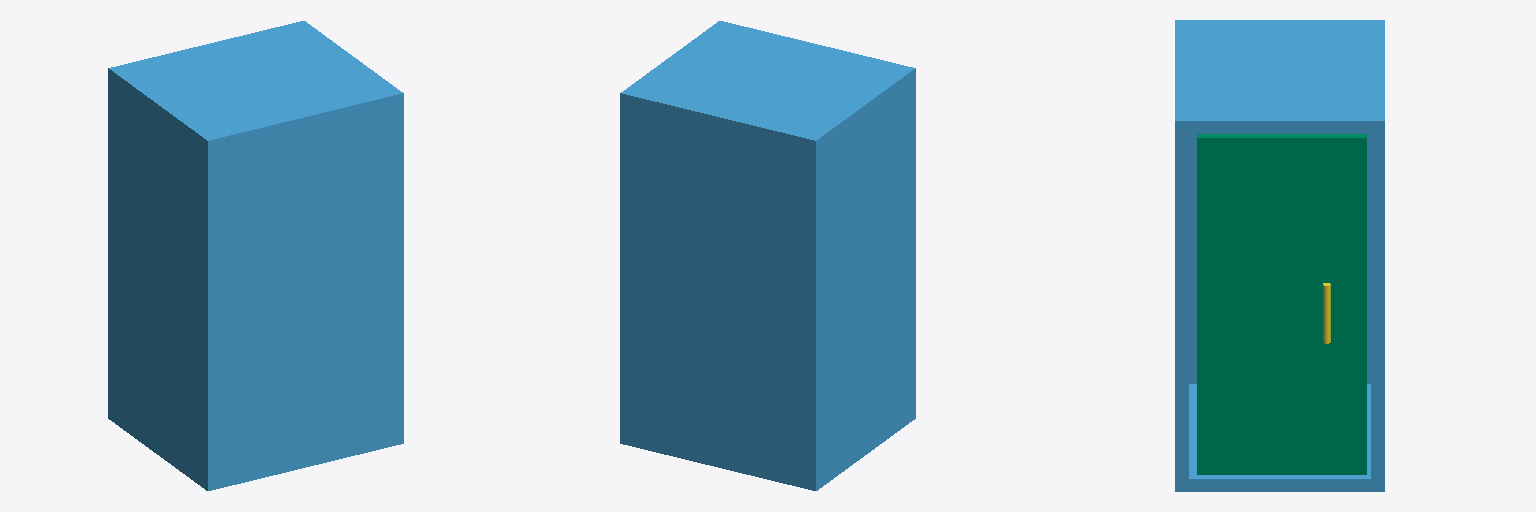
URDF robot description (my_cabinet):
<?xml version="1.0" ?>
<robot name="my_cabinet">
	<link name="world"/>
	<joint name="virtual_joint" type="fixed">
		<parent link="world"/>
		<child link="base_cabinet_link"/>
		<origin xyz="0.0 0.0 0.0" rpy="0.0 0.0 0.0"/>
	</joint>
	<link name="base_cabinet_link">
		<visual>
			<origin xyz="0.0 -0.0025 -0.24768988872392958" rpy="0.0 0.0 0.0"/>
			<geometry>
				<box size="0.3 0.26370536524899085 0.018"/>
			</geometry>
		</visual>
		<collision name="base_cabinet_link_collision_0">
			<origin xyz="0.0 -0.0025 -0.24768988872392958" rpy="0.0 0.0 0.0"/>
			<geometry>
				<box size="0.3 0.26370536524899085 0.018"/>
			</geometry>
		</collision>
		<visual>
			<origin xyz="0.0 0.12035268262449544 0.0" rpy="0.0 0.0 0.0"/>
			<geometry>
				<box size="0.3 0.018 0.5133797774478591"/>
			</geometry>
		</visual>
		<collision name="base_cabinet_link_collision_1">
			<origin xyz="0.0 0.12035268262449544 0.0" rpy="0.0 0.0 0.0"/>
			<geometry>
				<box size="0.3 0.018 0.5133797774478591"/>
			</geometry>
		</collision>
		<visual>
			<origin xyz="0.0 -0.12535268262449545 0.0" rpy="0.0 0.0 0.0"/>
			<geometry>
				<box size="0.3 0.018 0.5133797774478591"/>
			</geometry>
		</visual>
		<collision name="base_cabinet_link_collision_2">
			<origin xyz="0.0 -0.12535268262449545 0.0" rpy="0.0 0.0 0.0"/>
			<geometry>
				<box size="0.3 0.018 0.5133797774478591"/>
			</geometry>
		</collision>
		<visual>
			<origin xyz="0.0 -0.0025 0.24768988872392958" rpy="0.0 0.0 0.0"/>
			<geometry>
				<box size="0.3 0.2637053652489909 0.018"/>
			</geometry>
		</visual>
		<collision name="base_cabinet_link_collision_3">
			<origin xyz="0.0 -0.0025 0.24768988872392958" rpy="0.0 0.0 0.0"/>
			<geometry>
				<box size="0.3 0.2637053652489909 0.018"/>
			</geometry>
		</collision>
		<visual>
			<origin xyz="-0.141 -0.0025 0.0" rpy="0.0 0.0 0.0"/>
			<geometry>
				<box size="0.018 0.2637053652489909 0.5133797774478591"/>
			</geometry>
		</visual>
		<collision name="base_cabinet_link_collision_4">
			<origin xyz="-0.141 -0.0025 0.0" rpy="0.0 0.0 0.0"/>
			<geometry>
				<box size="0.018 0.2637053652489909 0.5133797774478591"/>
			</geometry>
		</collision>
		<inertial>
			<mass value="0.200000"/>
			<inertia ixx="0.005552" ixy="0.0" ixz="0.0" iyy="0.005893" iyz="0.0" izz="0.002659"/>
		</inertial>
	</link>
	<link name="door_link">
		<visual>
			<origin xyz="0.0 -0.10635268262449545 0.0"/>
			<geometry>
				<box size="0.018 0.2127053652489909 0.46737977744785913"/>
			</geometry>
		</visual>
		<collision name="door_link_collision">
			<origin xyz="0.0 -0.10635268262449545 0.0"/>
			<geometry>
				<box size="0.018 0.2127053652489909 0.46737977744785913"/>
			</geometry>
		</collision>
		<inertial>
			<mass value="0.200000"/>
			<inertia ixx="0.004395" ixy="0.0" ixz="0.0" iyy="0.003646" iyz="0.0" izz="0.000759"/>
		</inertial>
	</link>
	<joint name="door_joint" type="revolute">
		<origin xyz="0.141 -0.10635268262449545 0.0" rpy="0.000000 -0.000000 3.141593"/>
		<axis xyz="0 0 1"/>
		<parent link="base_cabinet_link"/>
		<child link="door_link"/>
		<limit effort="50" lower="-1.658062789394613" upper="0" velocity="10"/>
		<dynamics friction="3.5" damping="3.5"/>
	</joint>
	<link name="handle_link">
		<visual>
			<origin xyz="0.0 0.0 0.0" rpy="0.0 0.0 0.0"/>
			<geometry>
				<cylinder length="0.08" radius="0.005"/>
			</geometry>
		</visual>
		<collision name="handle_link_collision_0">
			<origin xyz="0.0 0.0 0.0" rpy="0.0 0.0 0.0"/>
			<geometry>
				<cylinder length="0.08" radius="0.005"/>
			</geometry>
		</collision>
		<visual>
			<origin xyz="-0.01 0.0 0.02" rpy="0.0 1.5707963267948966 0.0"/>
			<geometry>
				<cylinder length="0.02" radius="0.003"/>
			</geometry>
		</visual>
		<collision name="handle_link_collision_1">
			<origin xyz="-0.01 0.0 0.02" rpy="0.0 1.5707963267948966 0.0"/>
			<geometry>
				<cylinder length="0.01" radius="0.003"/>
			</geometry>
		</collision>
		<visual>
			<origin xyz="-0.01 0.0 -0.02" rpy="0.0 1.5707963267948966 0.0"/>
			<geometry>
				<cylinder length="0.02" radius="0.003"/>
			</geometry>
		</visual>
		<collision name="handle_link_collision_2">
			<origin xyz="-0.01 0.0 -0.02" rpy="0.0 1.5707963267948966 0.0"/>
			<geometry>
				<cylinder length="0.02" radius="0.003"/>
			</geometry>
		</collision>
		<inertial>
			<mass value="0.050000"/>
			<inertia ixx="0.000027" ixy="0.0" ixz="0.0" iyy="0.000029" iyz="0.0" izz="0.000003"/>
		</inertial>
	</link>
	<joint name="handle_joint" type="fixed">
		<origin xyz="-0.028999999999999998 -0.16270536524899087 0.0" rpy="0.000000 -0.000000 3.141593"/>
		<parent link="door_link"/>
		<child link="handle_link"/>
	</joint>
	<gazebo reference="base_cabinet_link">
		<sensor name="main_sensor" type="contact">
			<selfCollide>true</selfCollide>
			<alwaysOn>true</alwaysOn>
			<updateRate>5.0</updateRate>
			<material>Gazebo/Red</material>
			<contact>
				<collision>base_cabinet_link_collision_0_collision</collision>
				<collision>base_cabinet_link_collision_1_collision</collision>
				<collision>base_cabinet_link_collision_2_collision</collision>
				<collision>base_cabinet_link_collision_3_collision</collision>
				<collision>base_cabinet_link_collision_4_collision</collision>
			</contact>
			<plugin name="gazebo_ros_bumper_controller" filename="libgazebo_ros_bumper.so">
				<bumperTopicName>/contact</bumperTopicName>
				<frameName>world</frameName>
			</plugin>
		</sensor>
	</gazebo>
	<gazebo reference="door_link">
		<sensor name="main_sensor" type="contact">
			<selfCollide>true</selfCollide>
			<alwaysOn>true</alwaysOn>
			<updateRate>5.0</updateRate>
			<material>Gazebo/Red</material>
			<contact>
				<collision>door_link_collision_collision</collision>
			</contact>
			<plugin name="gazebo_ros_bumper_controller" filename="libgazebo_ros_bumper.so">
				<bumperTopicName>/contact_door</bumperTopicName>
				<frameName>contact_door</frameName>
			</plugin>
		</sensor>
	</gazebo>
	<gazebo reference="door_link">
		<mu>3.0</mu>
		<mu2>3.0</mu2>
		<kp>10000000</kp>
		<kd>100</kd>
	</gazebo>
</robot>

--- Facts derived from the render (not from the file) ---
Views: 3 orthographic renders of the robot side by side, from view 1: azimuth 30°, elevation 25°; view 2: azimuth 150°, elevation 25°; view 3: azimuth 270°, elevation 25°.
Model my_cabinet with 4 links and 3 joints (1 revolute, 2 fixed), rooted at world, posed every joint at zero.
Links seen in each view (by area): view 1: base_cabinet_link; view 2: base_cabinet_link; view 3: door_link, base_cabinet_link.
Link boxes in pixels (left/top/right/bottom): base_cabinet_link: left=108, top=21, right=403, bottom=490; base_cabinet_link: left=620, top=21, right=915, bottom=490; door_link: left=1197, top=134, right=1366, bottom=474; base_cabinet_link: left=1175, top=20, right=1384, bottom=491.
Bounding box of the posed robot: 0.325 × 0.2637 × 0.5134 m (x, y, z).
Geometry: primitives only (box / cylinder / sphere), no mesh files.
